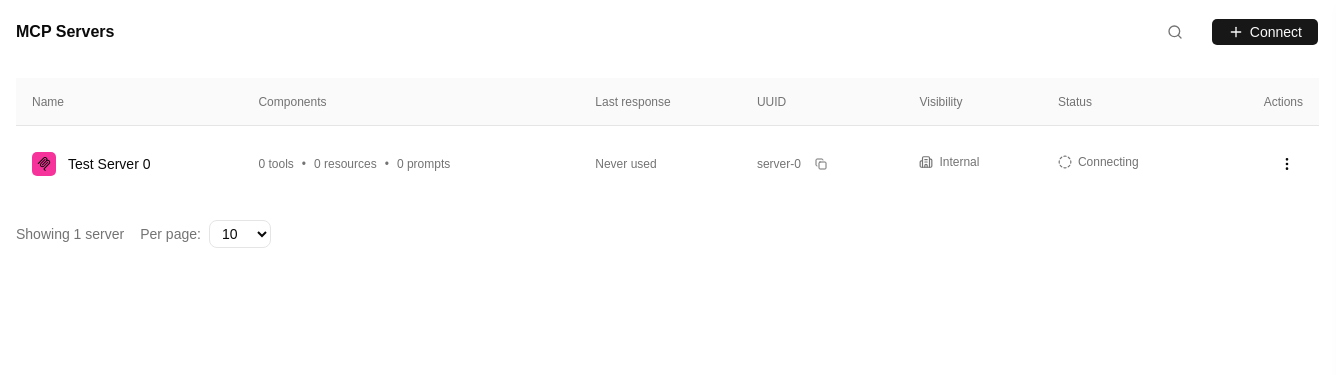
Test: Servers › shows inline error notification when toggleEnabled fails
Check: the text "Test Server 0" is shown, box x1=68 y1=154 x2=150 y2=174
What coordinates should you click on to do the following:
click the button named "actions for"
I would click on:
 (1287, 164)
Its box is x1=1271 y1=148 x2=1303 y2=180.
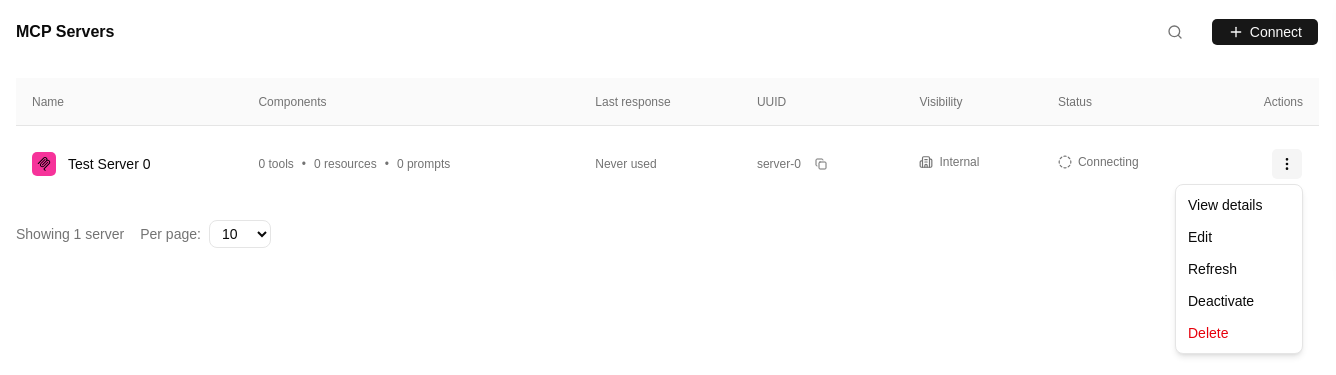
What coordinates should you click on to do the following:
click the menu item "Deactivate"
I would click on:
 (1221, 301)
Its box is x1=1188 y1=293 x2=1254 y2=309.
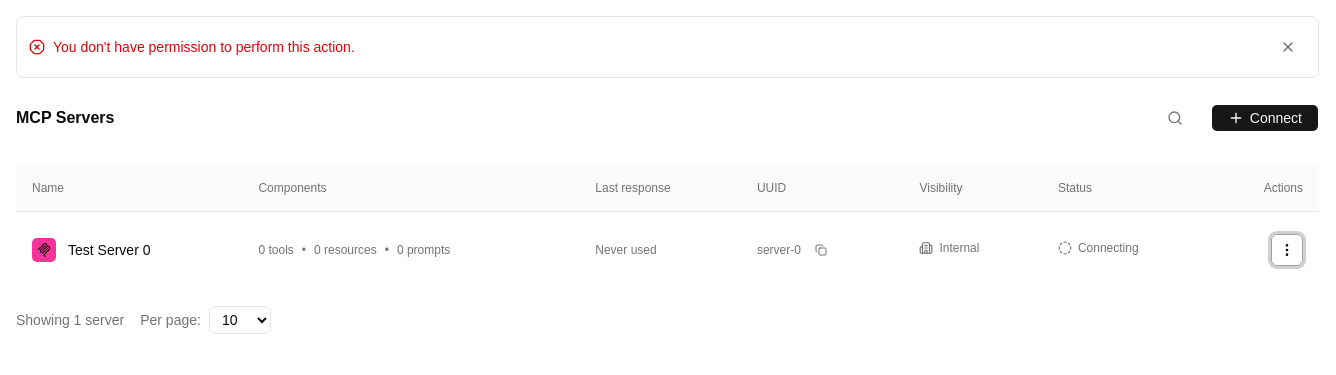
Check: the message "You don't have permission to perform this action." is shown, box x1=16 y1=16 x2=1319 y2=78
Check: the text "You don't have permission to perform this action." is shown, box x1=53 y1=37 x2=355 y2=57
